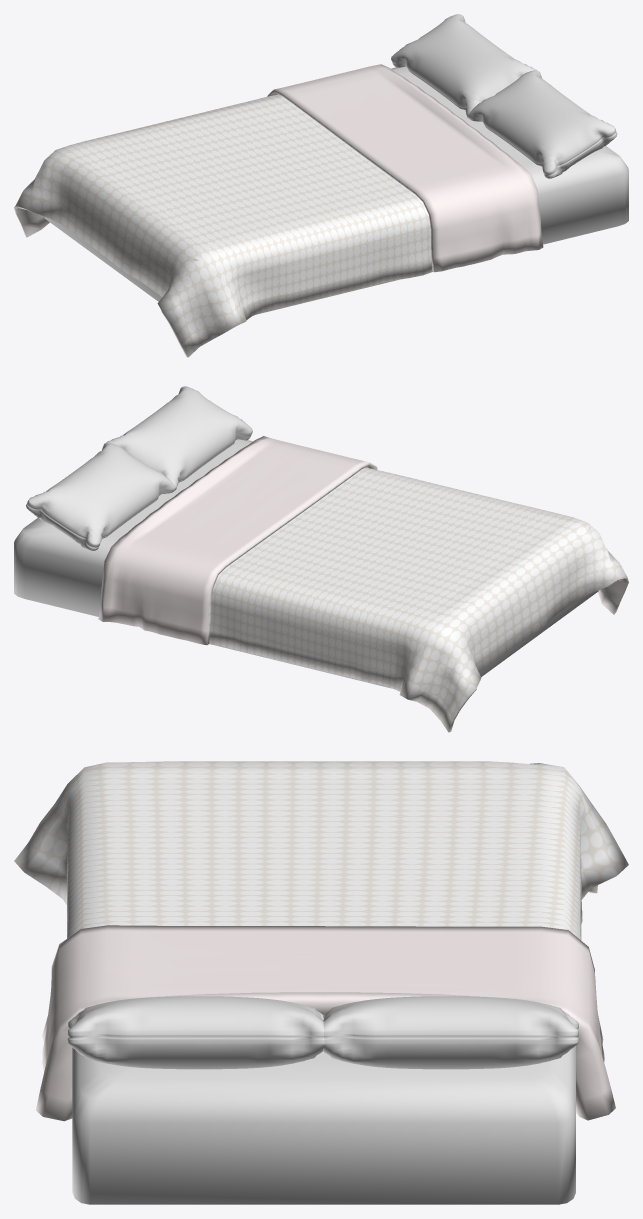
Rendered from bed.glb.
The picture shows the model from 3 angles, top to bottom: view 1: azimuth 30°, elevation 25°; view 2: azimuth 150°, elevation 25°; view 3: azimuth 270°, elevation 25°; orthographic projection. The views are drawn at different scales.
Parts seen in each view (by area): view 1: SurfPatch; view 2: SurfPatch; view 3: SurfPatch.
Boxes of the visible parts, <box> form: SurfPatch: <box>14,14,628,357</box>; SurfPatch: <box>14,386,628,732</box>; SurfPatch: <box>14,761,628,1204</box>.
Bounding box in the file's own units: 44.52 × 11.85 × 31.61.
Materials: 3 (1 with a texture image).
